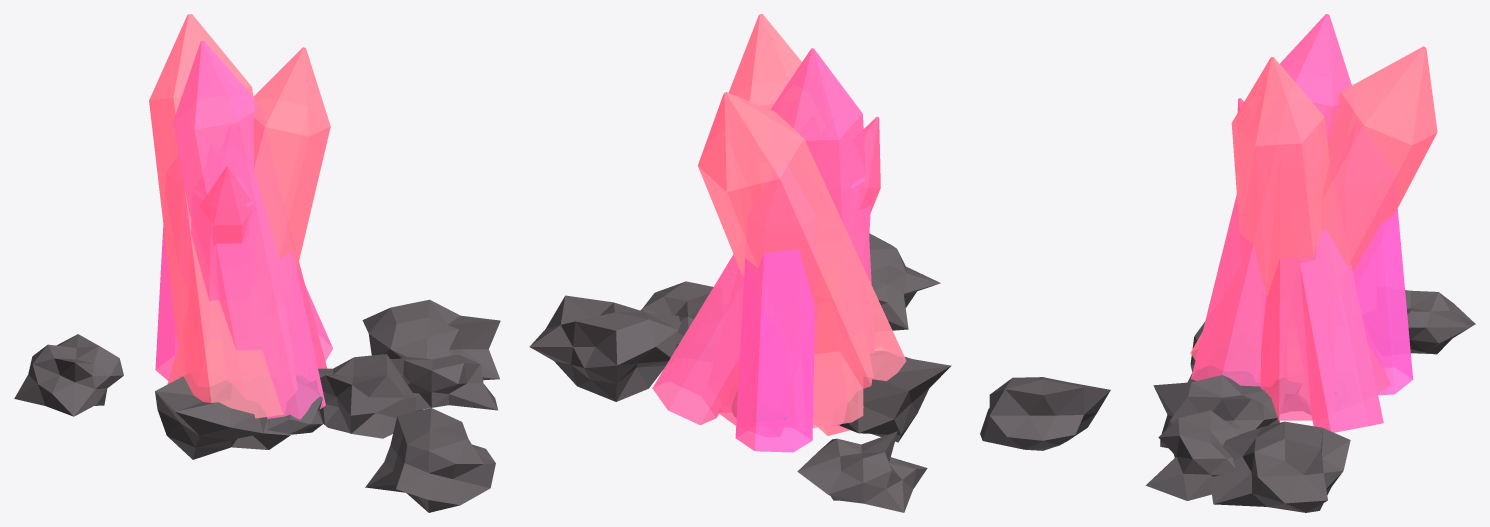
Rendered from mysterious_crystals.glb.
3 renders of one model, left to right at view 1: azimuth 30°, elevation 25°; view 2: azimuth 150°, elevation 25°; view 3: azimuth 270°, elevation 25°, orthographic. The views are drawn at different scales.
Visible parts, largest first — view 1: crystal_rubble_base, crystal_08, crystal_02, crystal_06, crystal_10, crystal_01, crystal_03, crystal_07, crystal_09; view 2: crystal_rubble_base, crystal_02, crystal_10, crystal_06, crystal_09, crystal_08, crystal_03, crystal_01, crystal_07; view 3: crystal_rubble_base, crystal_02, crystal_06, crystal_08, crystal_09, crystal_10, crystal_07, crystal_03.
Boxes of the visible parts, <box> form: crystal_rubble_base: <box>14,299,500,512</box>; crystal_08: <box>173,41,325,419</box>; crystal_02: <box>149,14,297,418</box>; crystal_06: <box>167,47,330,384</box>; crystal_10: <box>155,155,190,380</box>; crystal_01: <box>189,141,252,337</box>; crystal_03: <box>199,166,254,245</box>; crystal_07: <box>222,126,327,368</box>; crystal_09: <box>205,144,332,361</box>; crystal_rubble_base: <box>529,233,951,512</box>; crystal_02: <box>697,92,906,435</box>; crystal_10: <box>735,163,816,452</box>; crystal_06: <box>728,14,872,427</box>; crystal_09: <box>652,127,846,425</box>; crystal_08: <box>770,48,874,352</box>; crystal_03: <box>718,116,880,436</box>; crystal_01: <box>821,117,871,426</box>; crystal_07: <box>708,118,822,384</box>; crystal_rubble_base: <box>980,290,1475,512</box>; crystal_02: <box>1190,46,1437,360</box>; crystal_06: <box>1231,57,1334,295</box>; crystal_08: <box>1191,14,1355,386</box>; crystal_09: <box>1291,186,1383,432</box>; crystal_10: <box>1336,122,1413,395</box>; crystal_07: <box>1260,172,1334,420</box>; crystal_03: <box>1237,98,1390,393</box>.
Bounding box in the file's own units: 2.66 × 2.39 × 2.72.
